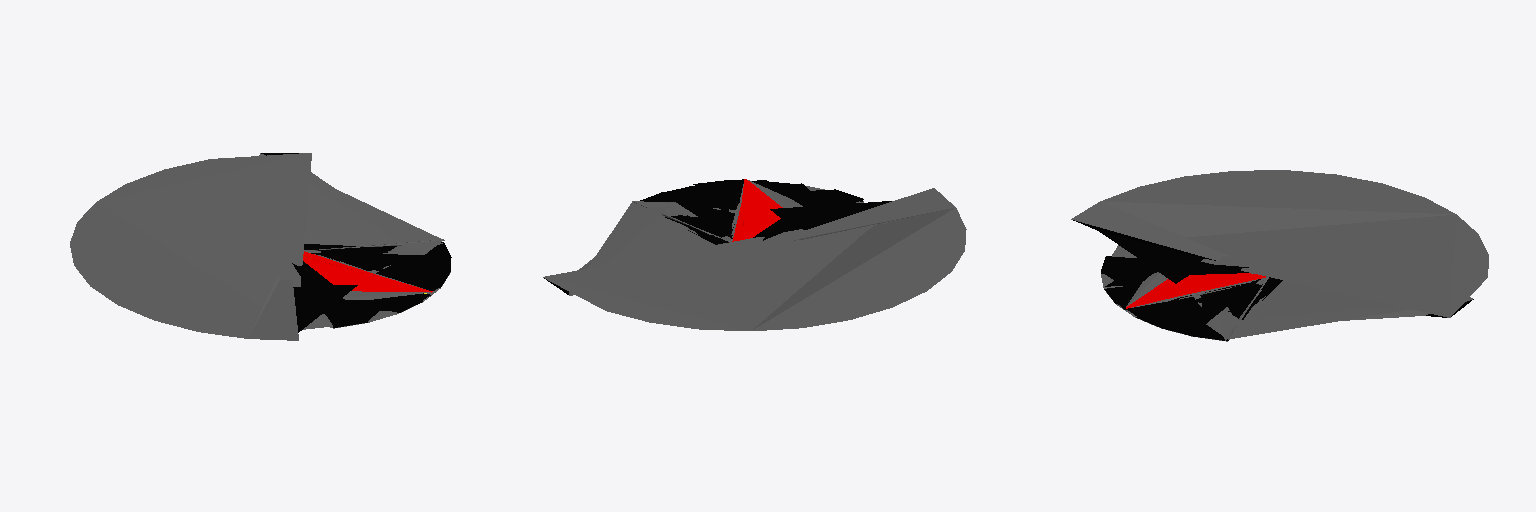
Rendered from Speedometer.obj.
3 views of the same model, side by side, from view 1: azimuth 30°, elevation 25°; view 2: azimuth 150°, elevation 25°; view 3: azimuth 270°, elevation 25° (orthographic).
Visible parts, largest first — view 1: Cylinder004, Cylinder005, Cylinder006; view 2: Cylinder004, Cylinder005; view 3: Cylinder004, Cylinder005, Cylinder006.
Part boxes in pixels (left/top/right/bottom): Cylinder004: left=70, top=153, right=451, bottom=340; Cylinder005: left=303, top=251, right=432, bottom=293; Cylinder006: left=308, top=251, right=431, bottom=299; Cylinder004: left=543, top=179, right=966, bottom=330; Cylinder005: left=732, top=179, right=782, bottom=241; Cylinder004: left=1071, top=170, right=1488, bottom=341; Cylinder005: left=1126, top=273, right=1265, bottom=308; Cylinder006: left=1126, top=272, right=1265, bottom=310.
Size of the model in its own units: 27467 by 1082 by 30689.